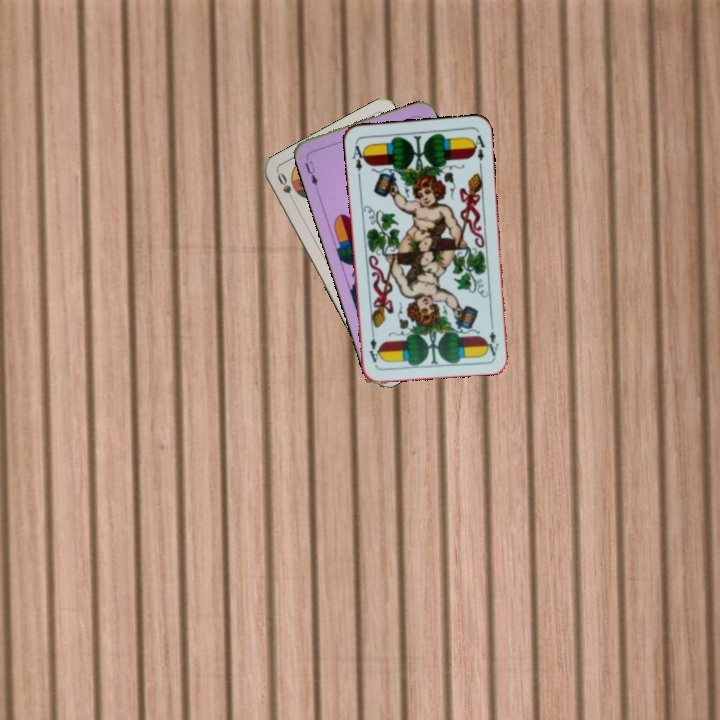EA: (348, 139, 368, 179), (483, 318, 501, 358)
EU: (301, 153, 320, 188)
SO: (273, 168, 299, 207)
